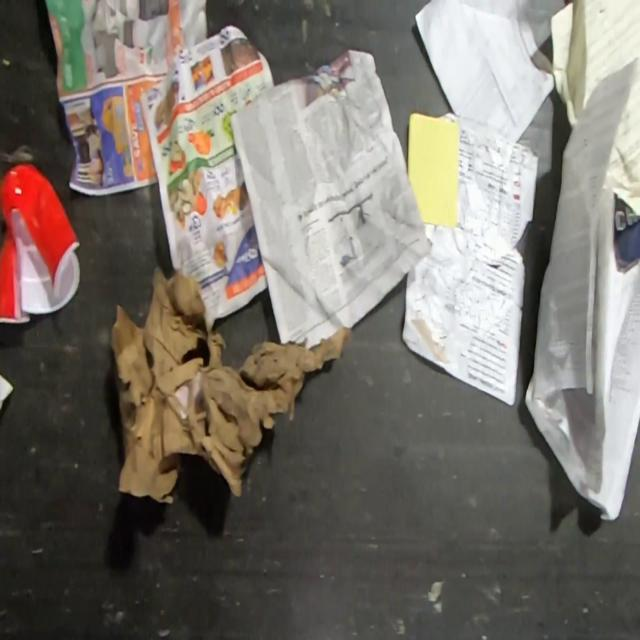rigid_plastic: (0, 160, 81, 324)
